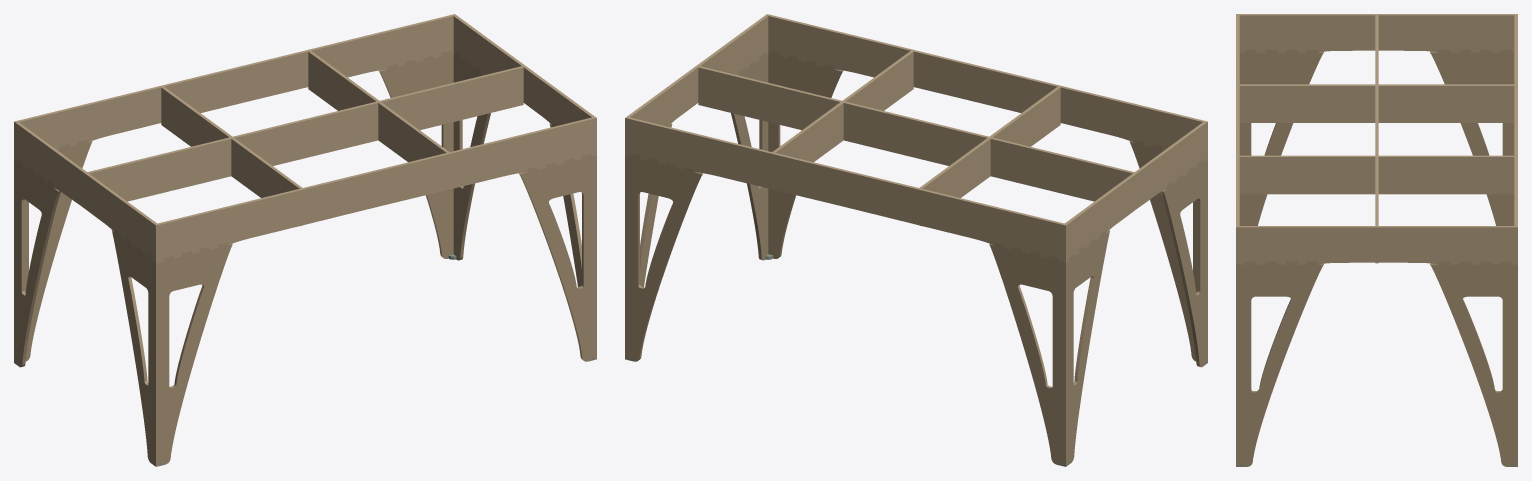
Rendered from FLOW_V31_CANDIDATE_FULL_19_DESIGN_ONLY.glb.
3 views of the same model, side by side, from view 1: azimuth 30°, elevation 25°; view 2: azimuth 150°, elevation 25°; view 3: azimuth 270°, elevation 25° (orthographic).
Visible parts, largest first — view 1: L_south, LC, L_north, SW_LEG_A, SE_LEG_A, W_west, NW_LEG_B, SW_LEG_B, C_2, C_1, W_east, NE_LEG_A (+3 smaller); view 2: L_north, LC, L_south, NW_LEG_A, NE_LEG_A, W_west, SW_LEG_B, NW_LEG_B, C_2, C_1, W_east, SE_LEG_A (+3 smaller); view 3: C_2, C_1, W_east, W_west, NE_LEG_B, SE_LEG_B, NW_LEG_B, SW_LEG_B, L_south, L_north, LC, SE_LEG_A (+1 smaller).
Part boxes in pixels (<box>): L_south: <box>154,117,596,262</box>; LC: <box>84,66,523,204</box>; L_north: <box>14,14,456,159</box>; SW_LEG_A: <box>154,242,232,466</box>; SE_LEG_A: <box>519,153,596,361</box>; W_west: <box>14,122,159,261</box>; NW_LEG_B: <box>14,158,60,367</box>; SW_LEG_B: <box>112,230,159,463</box>; C_2: <box>308,51,451,190</box>; C_1: <box>161,86,304,225</box>; W_east: <box>453,15,596,150</box>; NE_LEG_A: <box>379,51,453,258</box>; L_north: <box>625,117,1067,262</box>; LC: <box>698,66,1137,204</box>; L_south: <box>765,14,1207,159</box>; NW_LEG_A: <box>989,242,1067,466</box>; NE_LEG_A: <box>625,153,702,361</box>; W_west: <box>1062,122,1207,261</box>; SW_LEG_B: <box>1161,159,1207,367</box>; NW_LEG_B: <box>1062,230,1109,463</box>; C_2: <box>770,51,913,190</box>; C_1: <box>917,86,1060,225</box>; W_east: <box>625,15,768,150</box>; SE_LEG_A: <box>768,51,842,258</box>; C_2: <box>1239,155,1514,194</box>; C_1: <box>1239,84,1514,122</box>; W_east: <box>1236,226,1517,264</box>; W_west: <box>1239,14,1514,52</box>; NE_LEG_B: <box>1430,261,1517,466</box>; SE_LEG_B: <box>1236,261,1323,466</box>; NW_LEG_B: <box>1430,49,1514,225</box>; SW_LEG_B: <box>1239,49,1323,225</box>; L_south: <box>1236,14,1239,264</box>; L_north: <box>1514,14,1517,264</box>; LC: <box>1375,15,1378,263</box>; SE_LEG_A: <box>1236,264,1239,466</box>.
Size of the model in its own units: 0.86 by 0.45 by 0.48.
